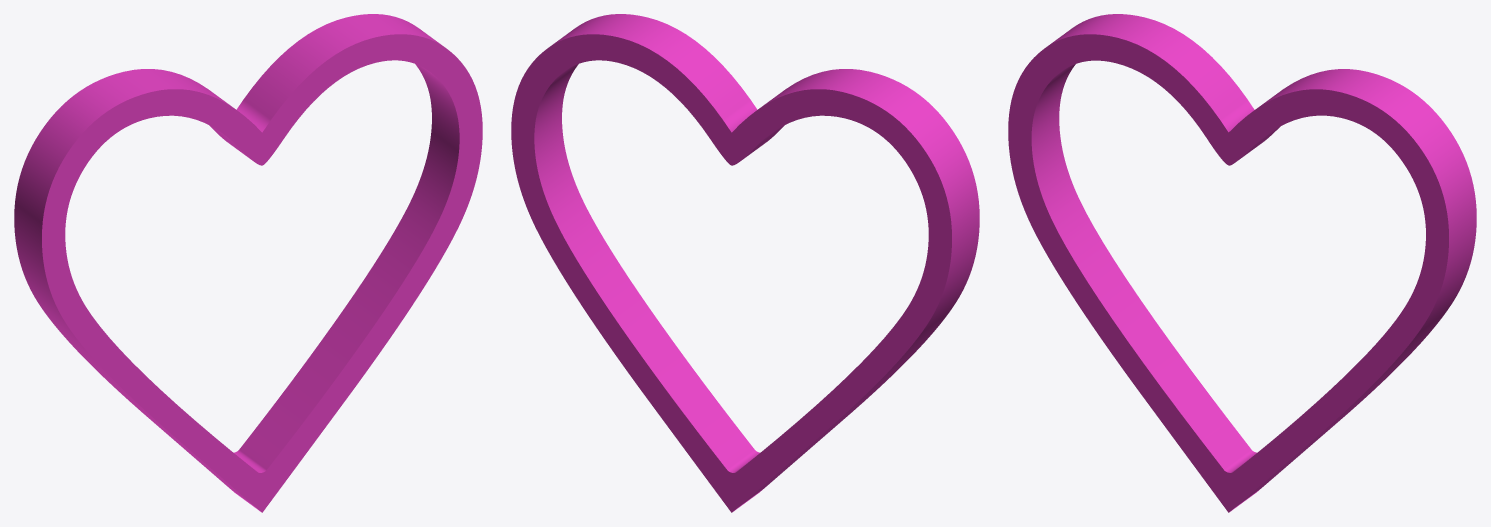
The model's file is title_ha-to_2.fbx.
The picture shows the model from 3 angles, left to right: view 1: azimuth 30°, elevation 25°; view 2: azimuth 150°, elevation 25°; view 3: azimuth 330°, elevation 25°; orthographic projection.
Visible parts, largest first — view 1: テキスト; view 2: テキスト; view 3: テキスト.
Boxes of the visible parts, box(x1,y1,x2,y2) form: テキスト: box(14, 14, 482, 512); テキスト: box(511, 14, 979, 512); テキスト: box(1008, 14, 1476, 512).
Size of the model in its own units: 55.21 by 53.61 by 6.
